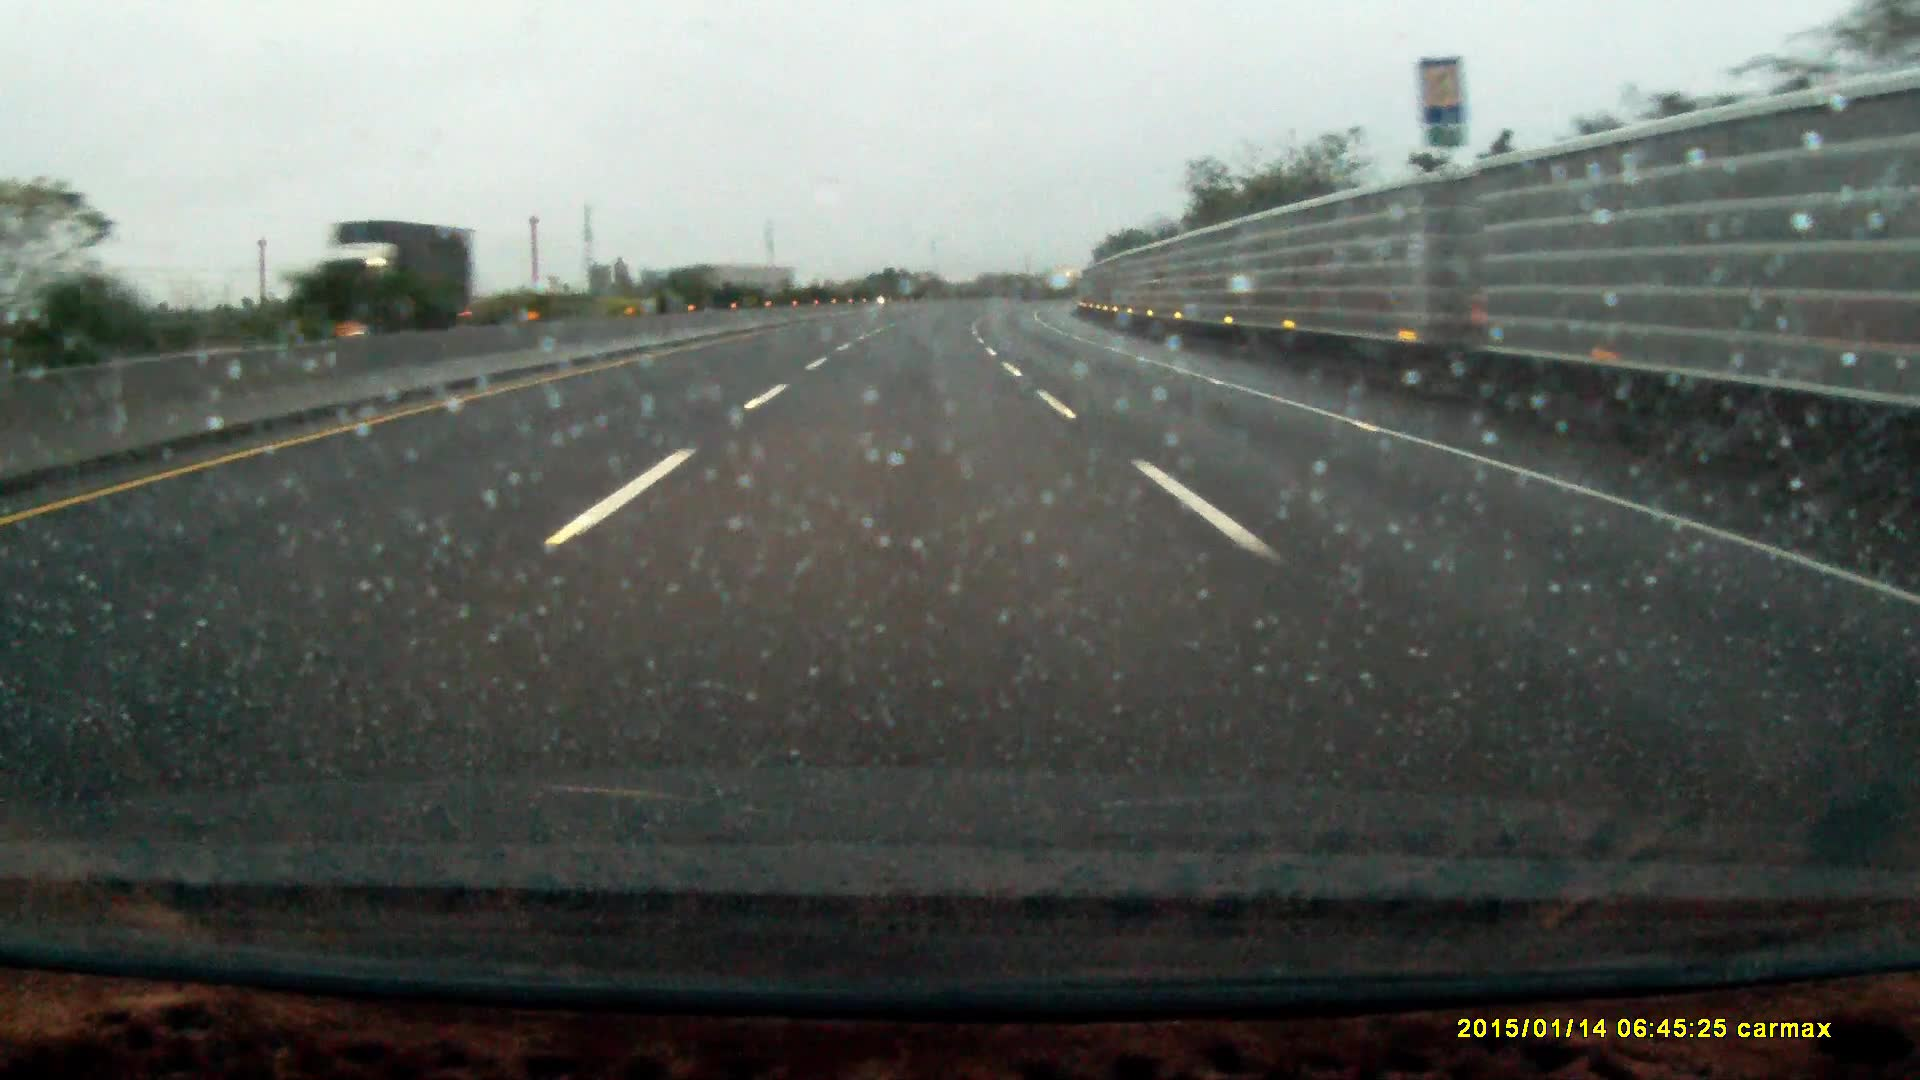vehicle: (309, 219, 479, 334)
